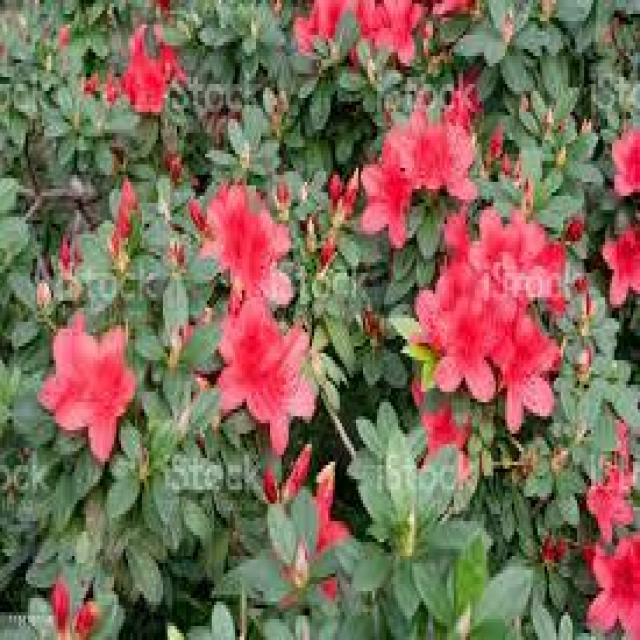organic waste: (206, 299, 325, 432), (466, 290, 560, 430), (43, 322, 143, 448), (419, 260, 507, 397), (200, 185, 291, 294), (396, 98, 480, 210), (467, 212, 552, 313), (356, 152, 428, 247), (597, 208, 636, 296), (126, 61, 182, 121), (372, 2, 419, 68)
